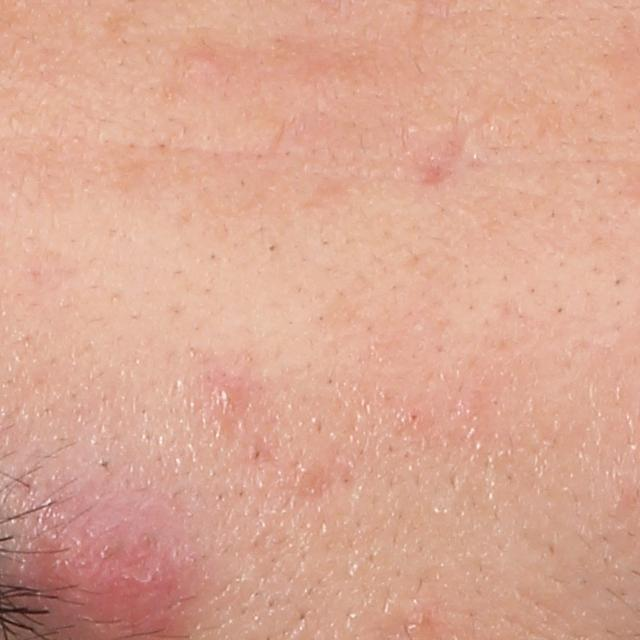atrophic_scar: (400, 107, 477, 192)
papule: (185, 47, 220, 74)
